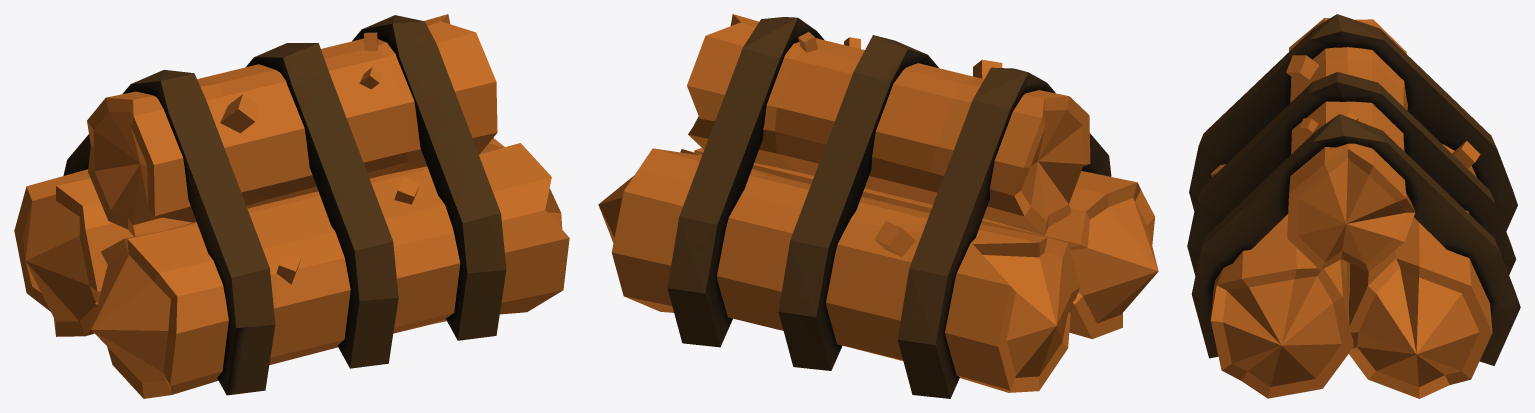
File: woodColored.gltf
The picture shows the model from 3 angles, left to right: view 1: azimuth 30°, elevation 25°; view 2: azimuth 150°, elevation 25°; view 3: azimuth 270°, elevation 25°; orthographic projection. The views are drawn at different scales.
Visible parts, largest first — view 1: Tronc-rope; view 2: Tronc-rope; view 3: Tronc-rope.
Boxes of the visible parts, x1=… form: Tronc-rope: x1=14, y1=14, x2=569, y2=398; Tronc-rope: x1=598, y1=14, x2=1158, y2=398; Tronc-rope: x1=1187, y1=14, x2=1520, y2=398.
Bounding box in the file's own units: 6.84 × 3.65 × 4.57.
Materials: 2 (1 with a texture image).
